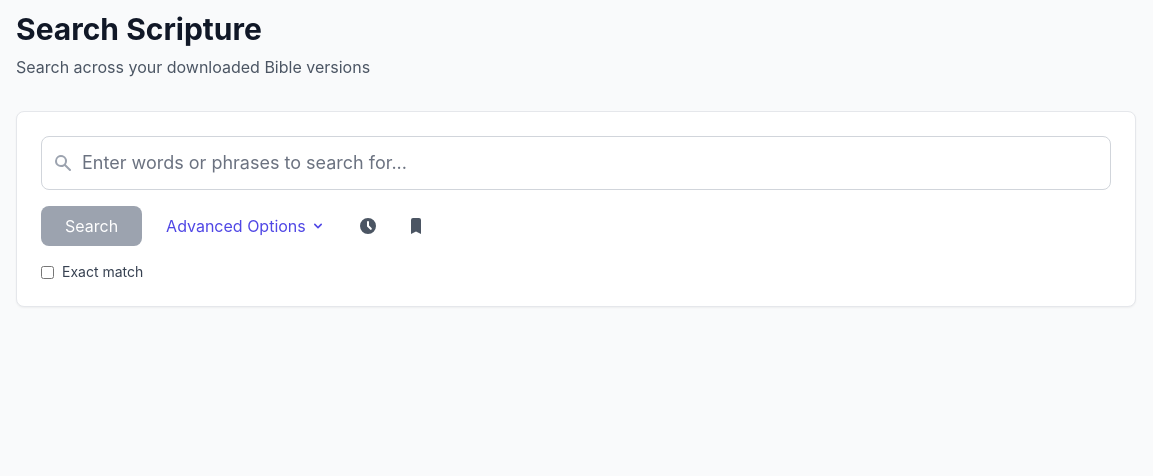
Test: SearchView › saved searches › should toggle saved searches visibility
This screenshot has width=1153, height=476.
Click the button titled "Saved Searches" at coordinates (416, 226), box [398,208,434,244]
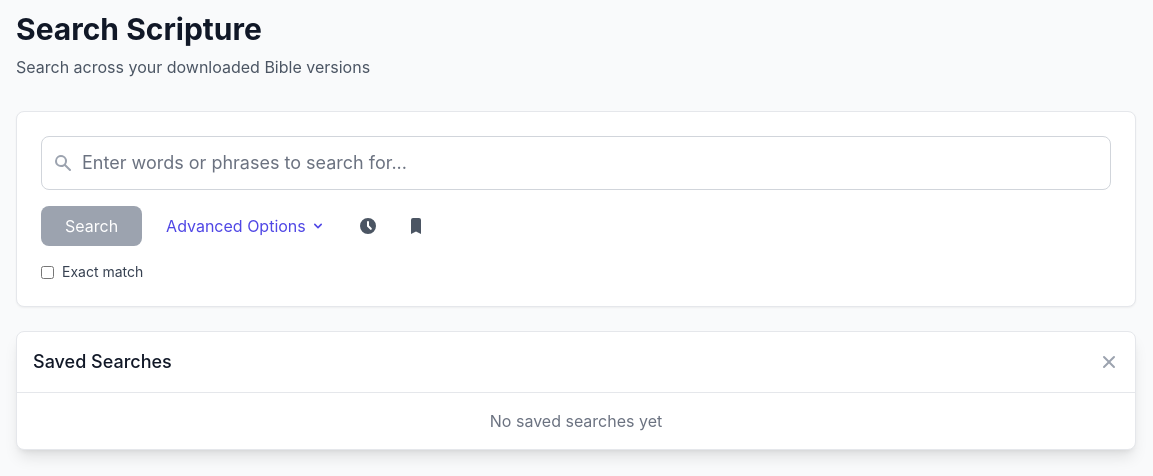
Check: the text "Saved Searches" is shown, box [33,348,172,376]
